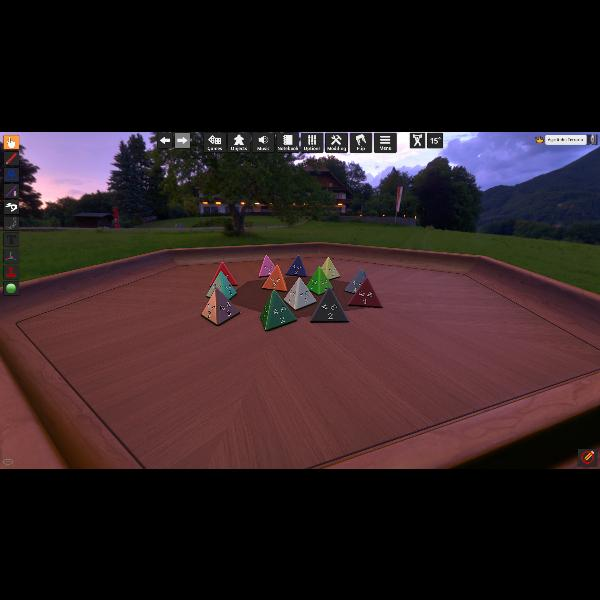d4: (260, 288, 296, 330), (202, 286, 241, 324), (310, 287, 346, 323), (350, 276, 382, 308), (206, 270, 236, 300), (285, 278, 313, 310), (305, 266, 331, 294), (262, 264, 288, 290), (345, 268, 367, 294), (285, 255, 305, 277), (258, 255, 276, 278), (322, 256, 338, 280)
